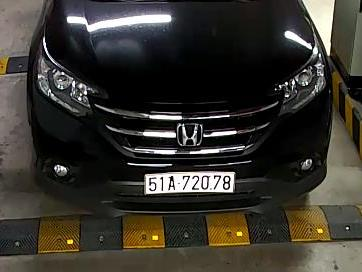number: (144, 173, 236, 196)
